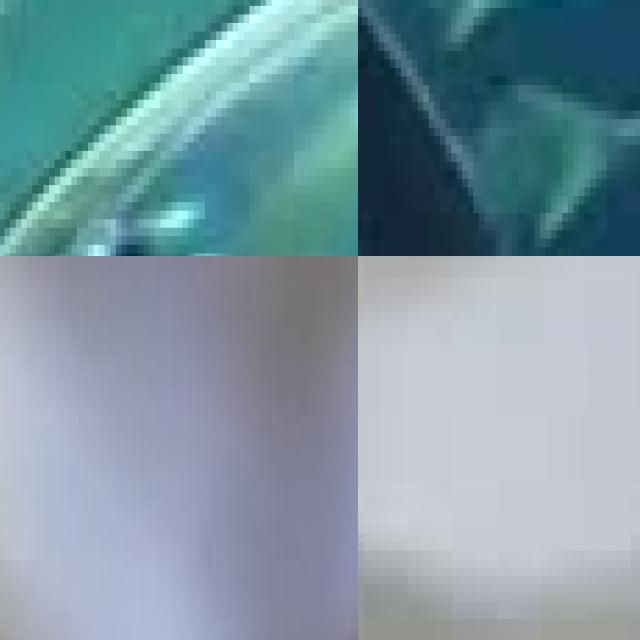fish: (0, 0, 358, 256), (0, 440, 358, 640)
